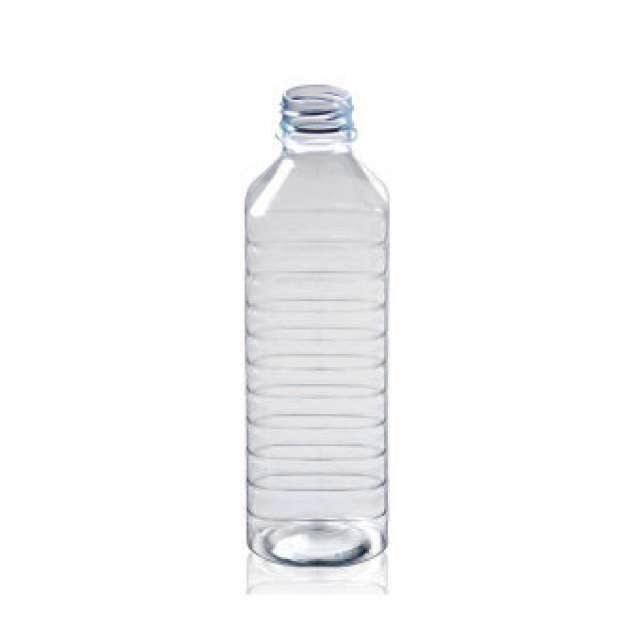bottle: (243, 84, 392, 569)
